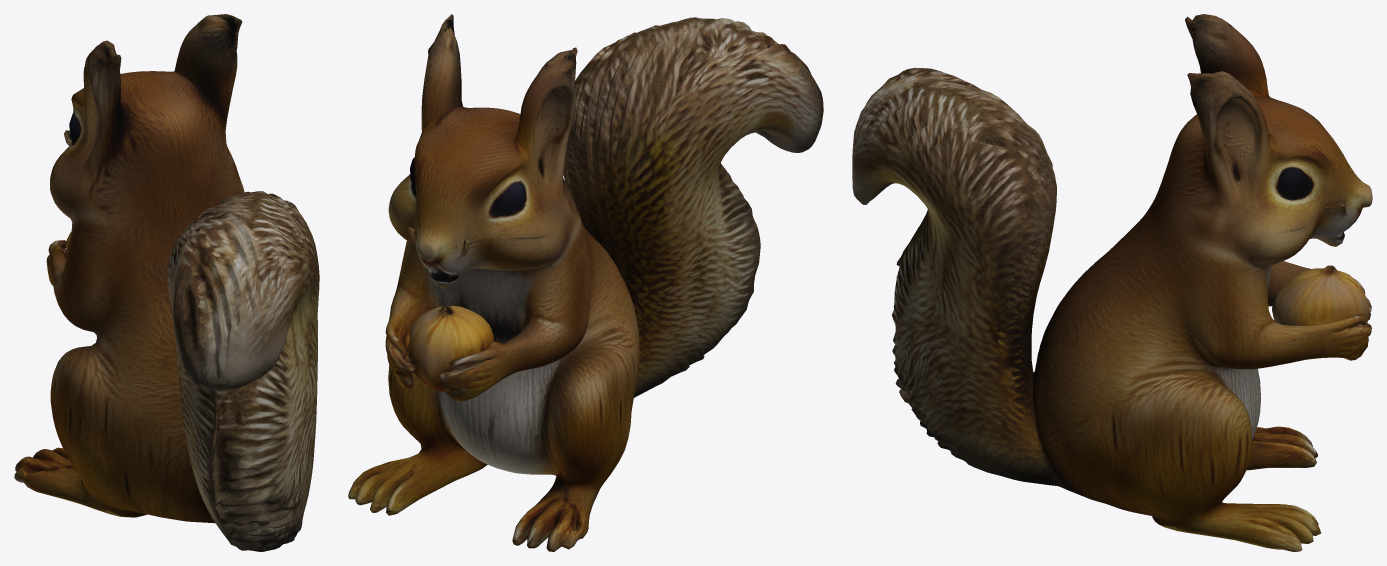
File: Squirrel.gltf
3 renders of one model, left to right at view 1: azimuth 30°, elevation 25°; view 2: azimuth 150°, elevation 25°; view 3: azimuth 270°, elevation 25°, orthographic.
Parts seen in each view (by area): view 1: squirrel with nut; view 2: squirrel with nut; view 3: squirrel with nut.
Boxes of the visible parts, x1,y1,x2,y2 form: squirrel with nut: [14, 14, 319, 551]; squirrel with nut: [348, 14, 823, 551]; squirrel with nut: [852, 14, 1372, 551].
Bounding box in the file's own units: 4 × 6.6 × 6.81.
Materials: 1 (1 with a texture image).
